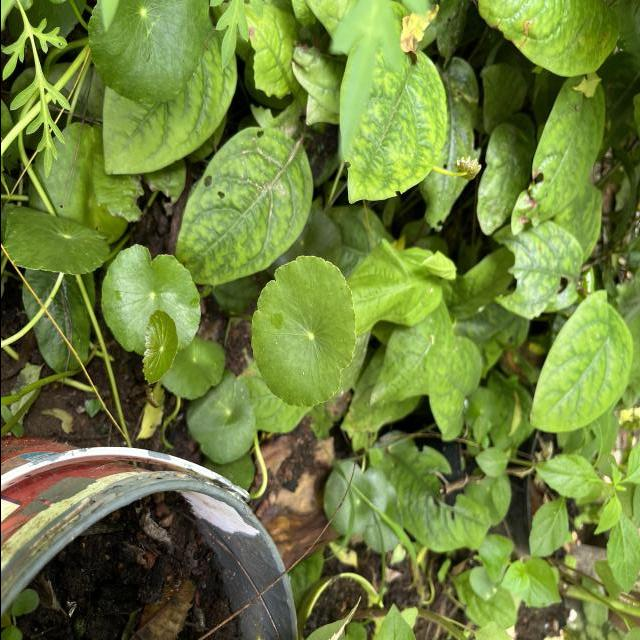Bacopa monnieri: (248, 252, 358, 408), (86, 0, 210, 106), (99, 242, 202, 360), (139, 308, 179, 387)
